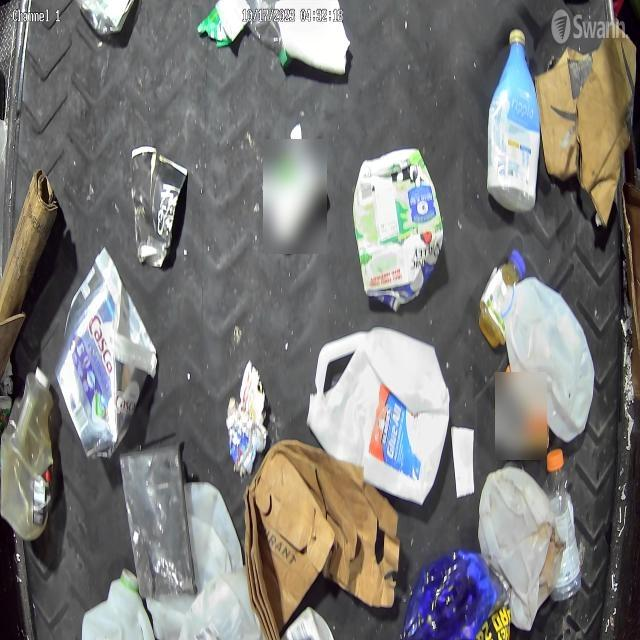milk_jug: (306, 328, 449, 505), (504, 279, 596, 437), (80, 572, 160, 640)
non_white_jug: (354, 147, 444, 312), (0, 368, 54, 540)
